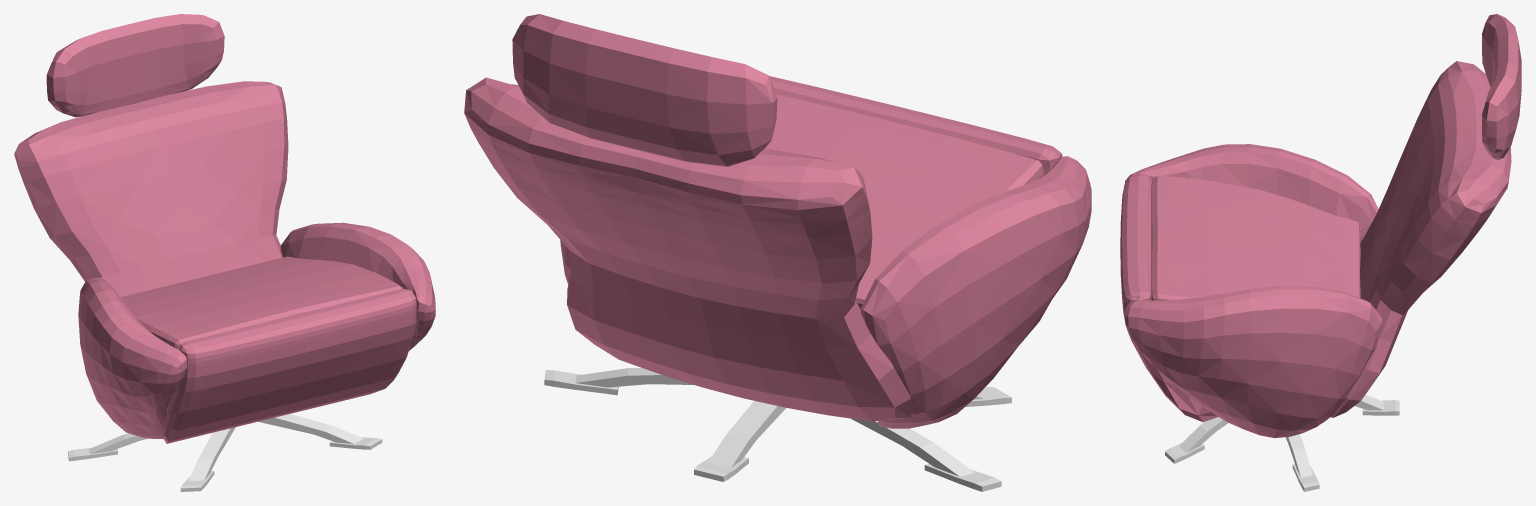
The model's file is sh-scopia-armchair1.glb.
3 renders of one model, left to right at view 1: azimuth 30°, elevation 25°; view 2: azimuth 150°, elevation 25°; view 3: azimuth 270°, elevation 25°, orthographic. The views are drawn at different scales.
Visible parts, largest first — view 1: sofa_Cube, patas_sofa_Cube.001; view 2: sofa_Cube, patas_sofa_Cube.001; view 3: sofa_Cube, patas_sofa_Cube.001.
Boxes of the visible parts, <box> form: sofa_Cube: <box>14,14,435,443</box>; patas_sofa_Cube.001: <box>68,414,382,491</box>; sofa_Cube: <box>464,14,1091,428</box>; patas_sofa_Cube.001: <box>544,368,1011,491</box>; sofa_Cube: <box>1120,14,1521,438</box>; patas_sofa_Cube.001: <box>1165,394,1399,491</box>.
Size of the model in its own units: 1 by 1 by 1.
